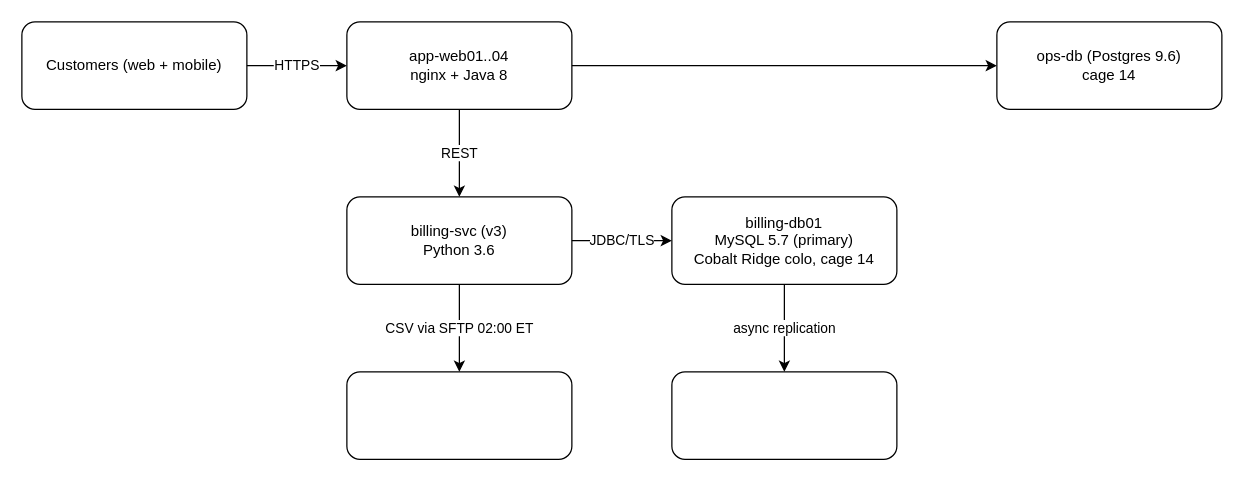
Image size: 1244x481. Some labels were removed from this diagram. Here are the shapes that lost their labels. From the top down, the centre of each, then its label:
(x=459, y=415): NetSuite (SaaS) nightly GL export
(x=784, y=415): billing-db02 MySQL 5.7 (replica) Cobalt Ridge colo, cage 14
